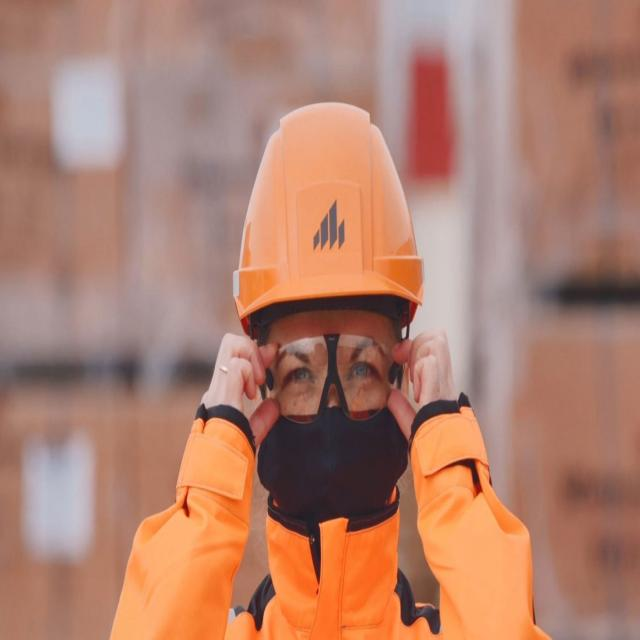goggles: (246, 321, 408, 441)
helmet: (232, 99, 422, 329)
vest: (130, 472, 553, 640)
